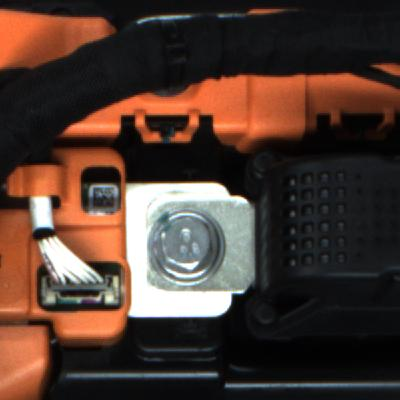nut_b: (143, 205, 223, 291)
